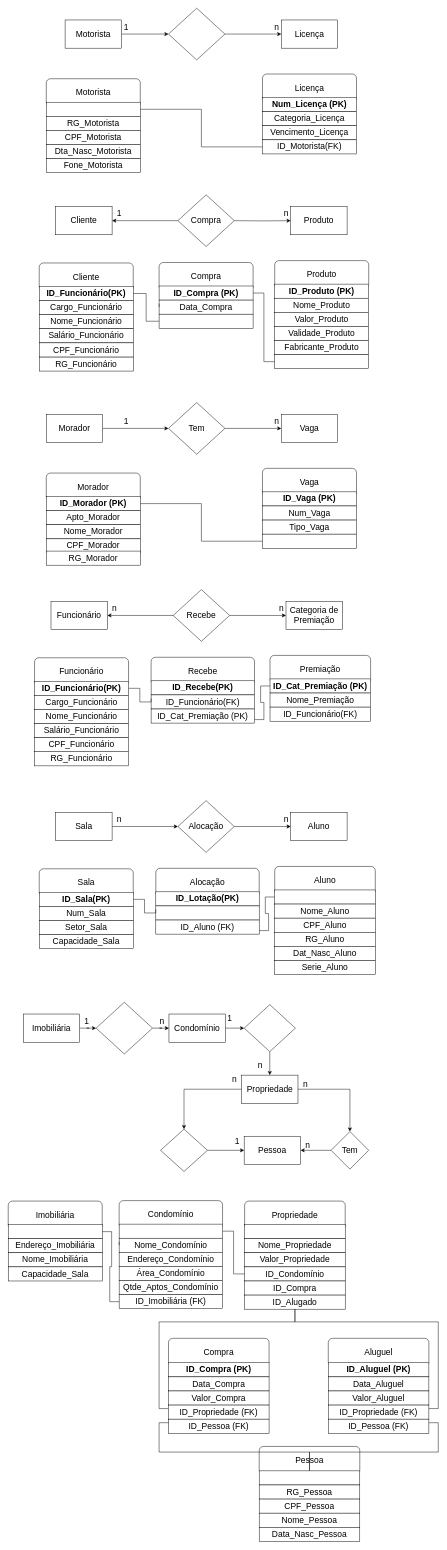
Some shapes in this 447 by 1550 pixel diagram are drawn without their labels. The centre of each missing label's shape, as x and y in pixels:
Administra: the point at 124,1028
Alugada: the point at 184,1150
Formado: the point at 269,1028
ID_Aluno (PK): the point at 324,896
ID_Cliente(FK): the point at 206,321
ID_Compra(FK): the point at 321,361
ID_Condomínio(PK): the point at 171,1231
ID_Imobiliária(PK): the point at 55,1231
ID_Morador(FK): the point at 309,541
ID_Motorista (PK): the point at 93,109
ID_Pessoa (PK): the point at 309,1477
ID_Propriedade (PK): the point at 294,1231
ID_Sala(FK): the point at 207,912
Renova: the point at 196,34
